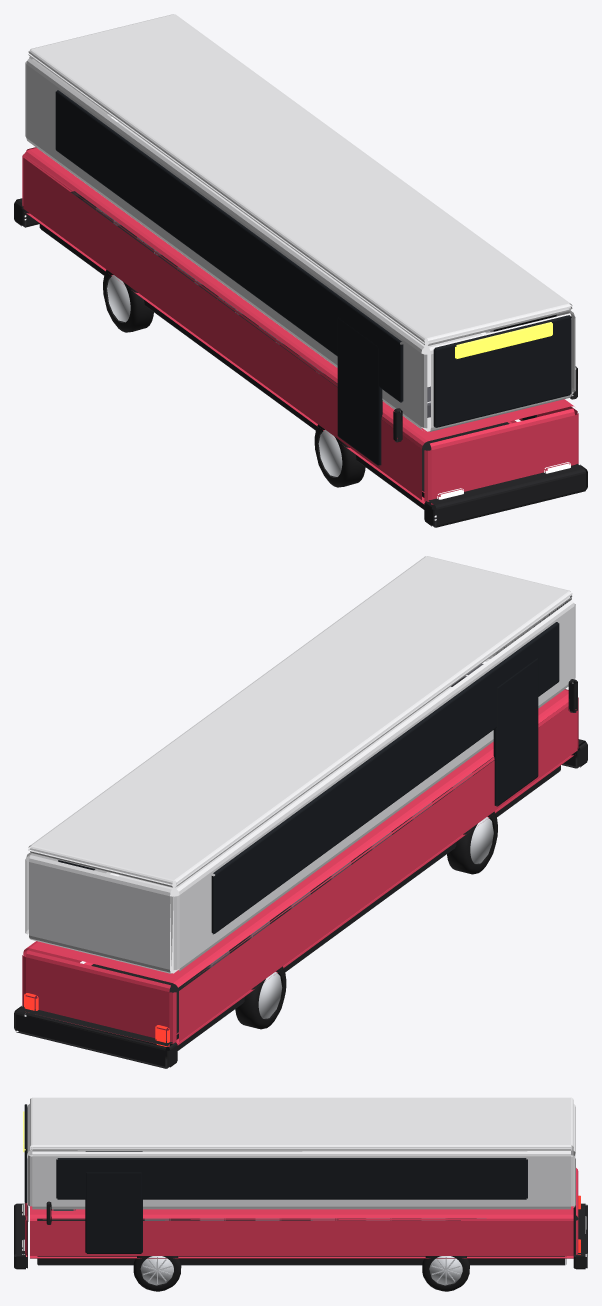
File: bus.glb
3 renders of one model, top to bottom at view 1: azimuth 30°, elevation 25°; view 2: azimuth 150°, elevation 25°; view 3: azimuth 270°, elevation 25°, orthographic. The views are drawn at different scales.
Parts seen in each view (by area): view 1: roof, bodylow, window.001, bodyup, windshield, doorgap.001, bumper, chassis, dest, tire.003, tire.001, rim.001 (+1 smaller); view 2: roof, bodylow, bodyup, window.001, doorgap.001, bumperR, chassis, tire.001, tire.003, rim.001, rim.003; view 3: roof, bodylow, window, bodyup, doorgap, chassis, bumper, bumperR, tire.002, tire, rim.002, rim (+1 smaller).
Boxes of the visible parts, left/top/right/bottom form: roof: left=28, top=14, right=572, bottom=345; bodylow: left=22, top=147, right=578, bottom=504; window.001: left=55, top=90, right=403, bottom=402; bodyup: left=25, top=56, right=575, bottom=431; windshield: left=433, top=315, right=571, bottom=427; doorgap.001: left=337, top=317, right=382, bottom=466; bumper: left=424, top=464, right=587, bottom=527; chassis: left=39, top=199, right=509, bottom=509; dest: left=455, top=322, right=552, bottom=358; tire.003: left=103, top=269, right=153, bottom=332; tire.001: left=314, top=424, right=365, bottom=487; rim.001: left=318, top=430, right=342, bottom=476; roof: left=28, top=556, right=572, bottom=887; bodylow: left=22, top=689, right=578, bottom=1046; bodyup: left=25, top=598, right=575, bottom=973; window.001: left=211, top=622, right=559, bottom=934; doorgap.001: left=493, top=658, right=538, bottom=806; bumperR: left=14, top=1005, right=177, bottom=1068; chassis: left=91, top=757, right=560, bottom=1050; tire.001: left=447, top=811, right=497, bottom=874; tire.003: left=235, top=966, right=286, bottom=1029; rim.001: left=470, top=817, right=493, bottom=863; rim.003: left=258, top=972, right=282, bottom=1018; roof: left=30, top=1097, right=573, bottom=1150; bodylow: left=25, top=1168, right=578, bottom=1258; window: left=56, top=1158, right=527, bottom=1199; bodyup: left=27, top=1104, right=575, bottom=1209; doorgap: left=85, top=1172, right=142, bottom=1253; chassis: left=37, top=1218, right=566, bottom=1265; bumper: left=14, top=1203, right=28, bottom=1269; bumperR: left=573, top=1203, right=587, bottom=1269; tire.002: left=422, top=1256, right=469, bottom=1291; tire: left=133, top=1256, right=181, bottom=1291; rim.002: left=429, top=1256, right=462, bottom=1285; rim: left=140, top=1256, right=173, bottom=1285.
Bounding box in the file's own units: 2.99 × 3.33 × 11.93.
